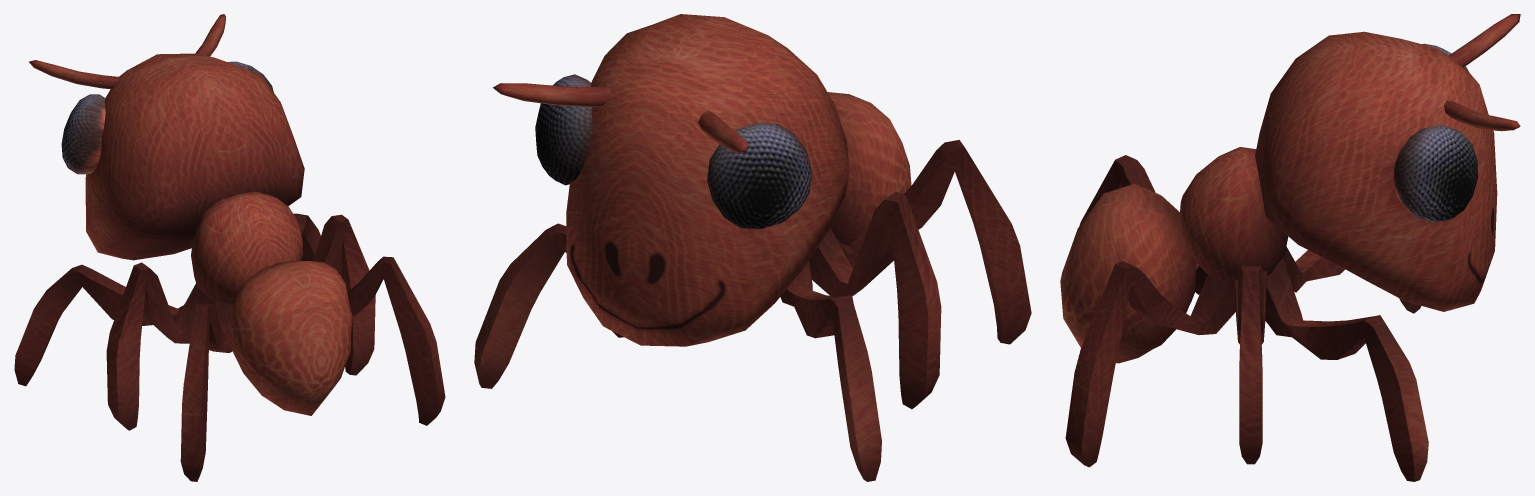
File: CRT0110037.fbx
The picture shows the model from 3 angles, left to right: view 1: azimuth 30°, elevation 25°; view 2: azimuth 150°, elevation 25°; view 3: azimuth 270°, elevation 25°; orthographic projection. The views are drawn at different scales.
Visible parts, largest first — view 1: smCRT0110037; view 2: smCRT0110037; view 3: smCRT0110037.
Part boxes in pixels (box(x1,y1,x2,y2)): smCRT0110037: box(14, 14, 445, 481); smCRT0110037: box(474, 14, 1031, 481); smCRT0110037: box(1060, 14, 1520, 481).
Size of the model in its own units: 10.46 by 9.57 by 11.29.
1 material, 1 textured.
